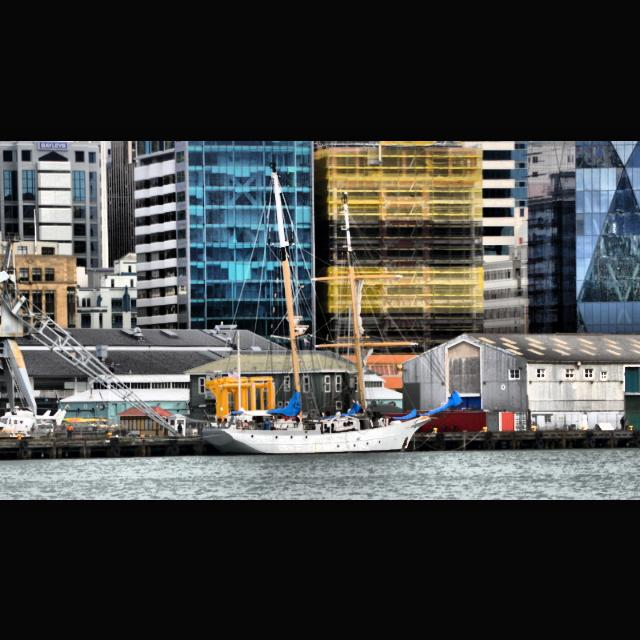sailing_vessel: (202, 162, 464, 454)
